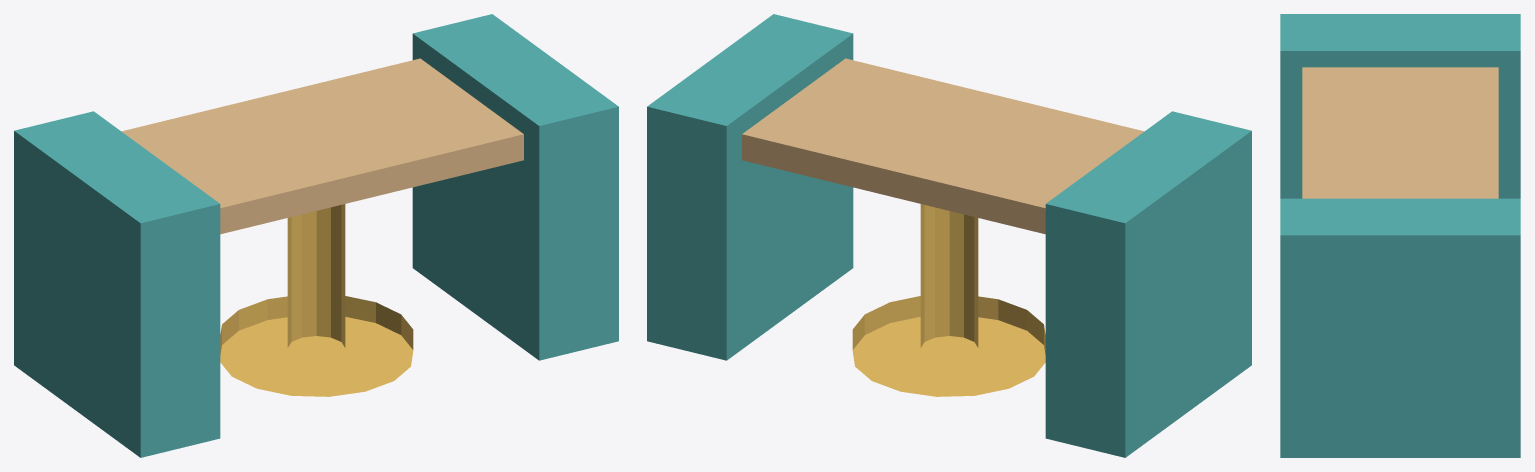
The model's file is dining_booth.glb.
3 views of the same model, side by side, from view 1: azimuth 30°, elevation 25°; view 2: azimuth 150°, elevation 25°; view 3: azimuth 270°, elevation 25° (orthographic). The views are drawn at different scales.
Parts seen in each view (by area): view 1: dining_booth; view 2: dining_booth; view 3: dining_booth.
Boxes of the visible parts, x1=… form: dining_booth: x1=14, y1=14, x2=618, y2=457; dining_booth: x1=647, y1=14, x2=1251, y2=457; dining_booth: x1=1280, y1=14, x2=1520, y2=457.
Bounding box in the file's own units: 1.92 × 0.91 × 0.88.
